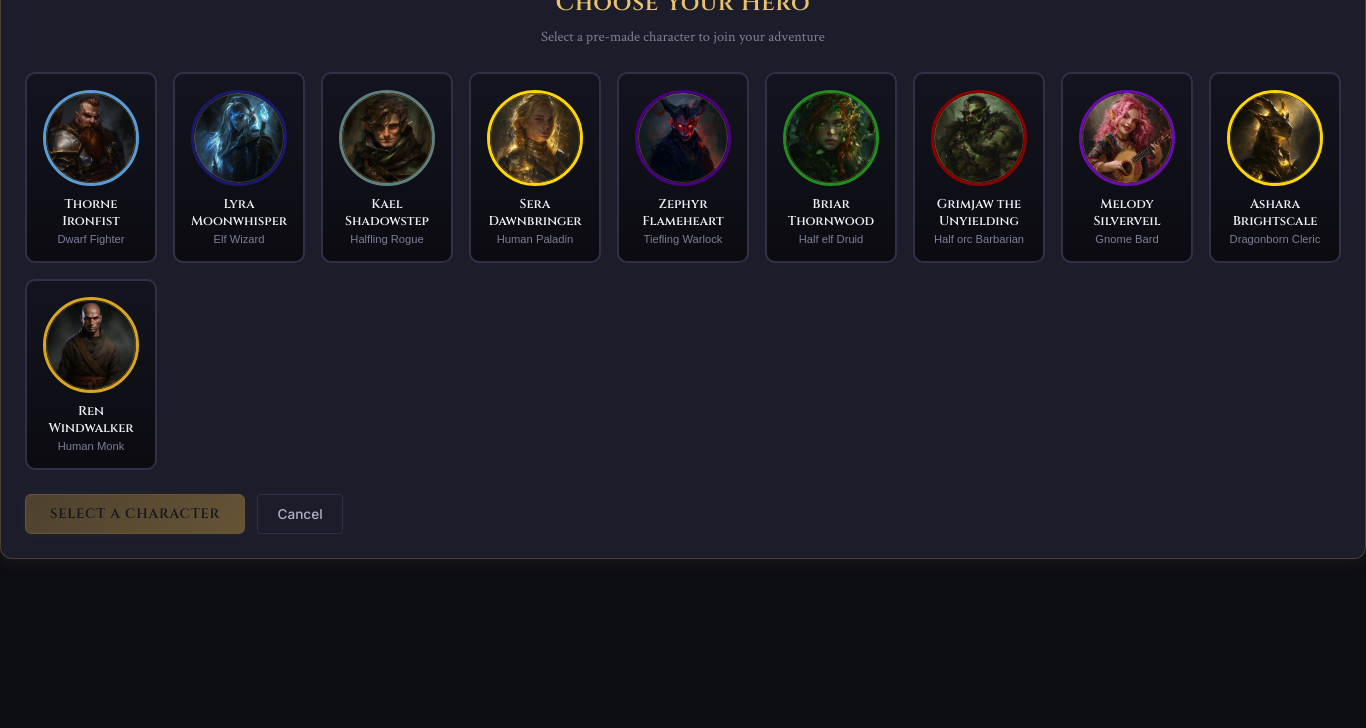
Scenario: CharacterPicker › confirm button shows character name when selected
Click the button with test id "picker-card-premade-sera": [535, 167] box [469,72,601,263]
(page scrolled)
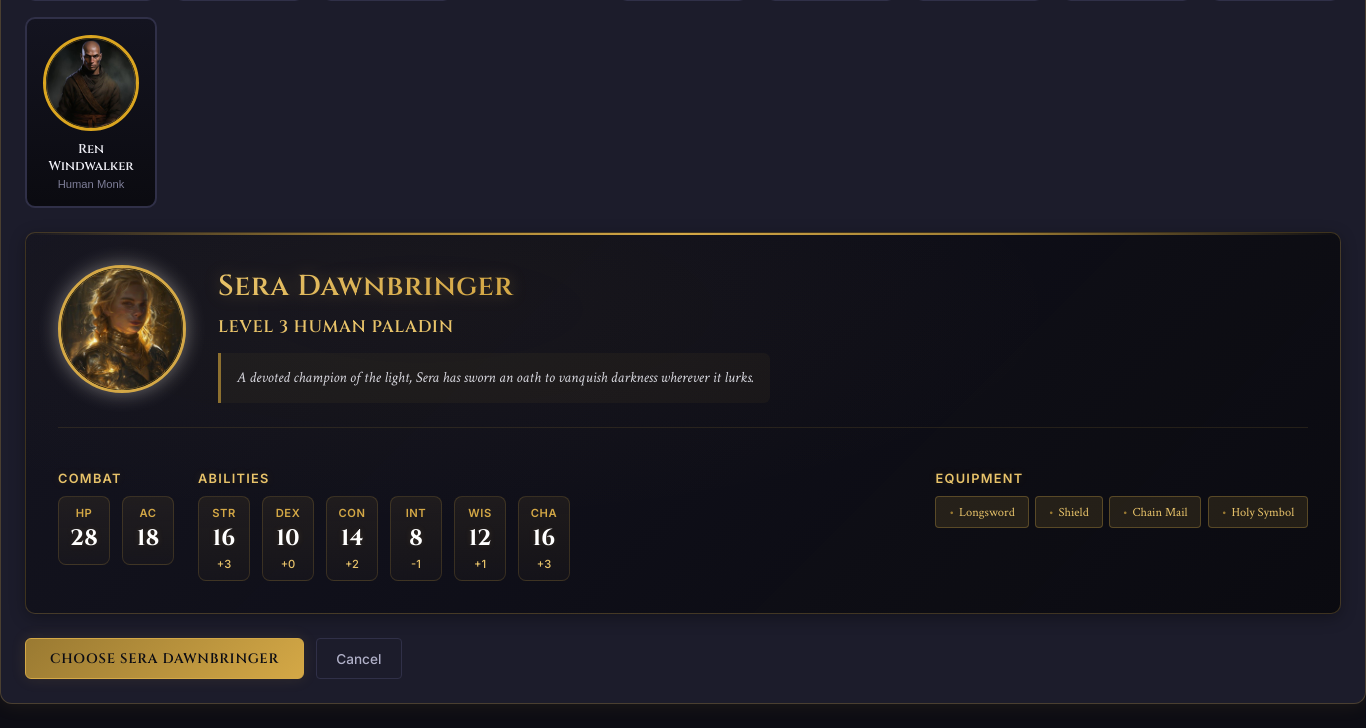
Result: the button with test id "picker-confirm" shows "Sera Dawnbringer" at [25,638,304,679]
